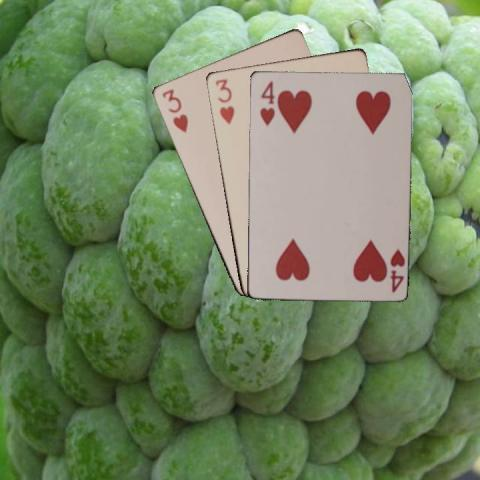3h: (159, 86, 189, 134), (212, 76, 235, 126)
4h: (256, 77, 274, 127), (387, 245, 405, 294)
